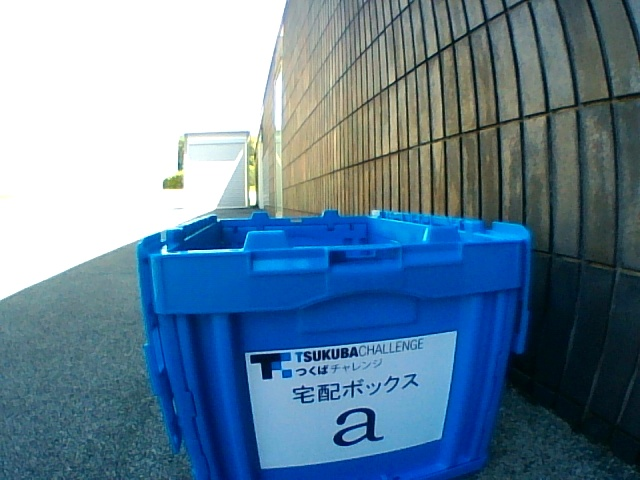blue_box: (137, 208, 532, 480)
tag_a: (285, 363, 399, 449)
